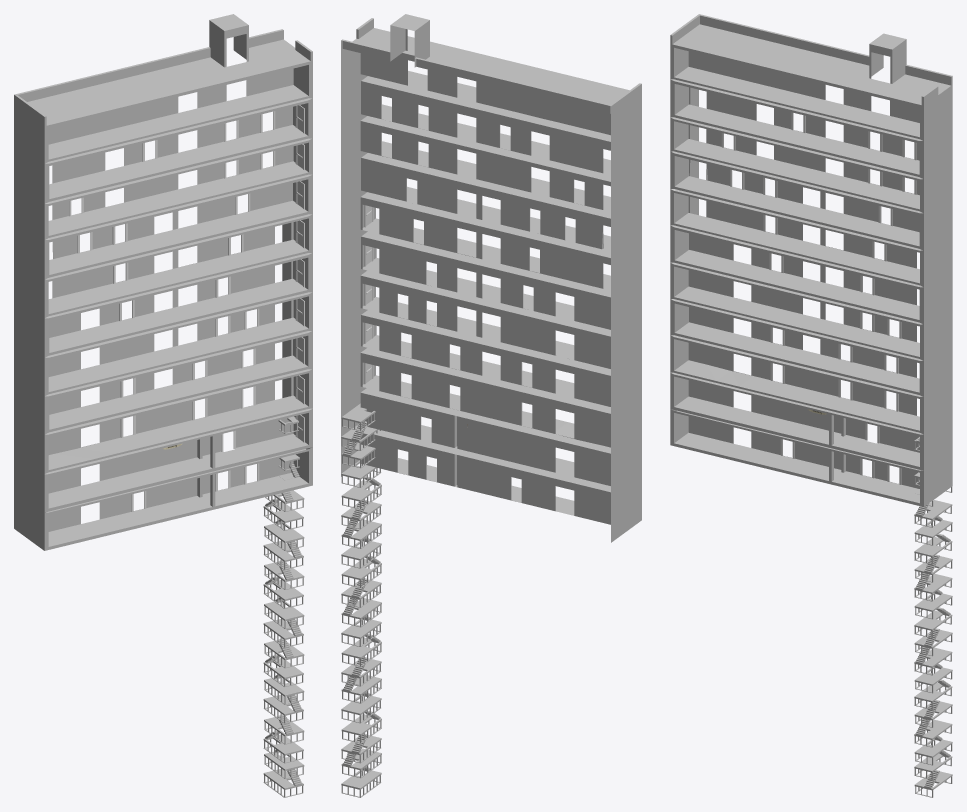
File: Happiness_HotelRedux.FBX
3 renders of one model, left to right at view 1: azimuth 30°, elevation 25°; view 2: azimuth 150°, elevation 25°; view 3: azimuth 330°, elevation 25°, orthographic. The views are drawn at different scales.
Visible parts, largest first — view 1: Building1, FireEscapes, TweenFloors; view 2: Building1, FireEscapes; view 3: Building1, FireEscapes, TweenFloors.
Boxes of the visible parts, left/top/right/bottom form: Building1: left=14, top=14, right=312, bottom=550; FireEscapes: left=263, top=416, right=304, bottom=797; TweenFloors: left=45, top=98, right=312, bottom=474; Building1: left=341, top=14, right=641, bottom=542; FireEscapes: left=341, top=403, right=381, bottom=797; Building1: left=670, top=14, right=952, bottom=506; FireEscapes: left=914, top=431, right=952, bottom=797; TweenFloors: left=671, top=79, right=923, bottom=434.
Size of the model in its own units: 133 by 26.11 by 366.
